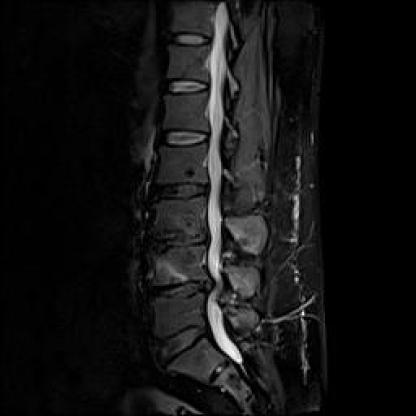Disc Bulgerotation: (148, 318, 213, 368), (141, 225, 212, 257)
